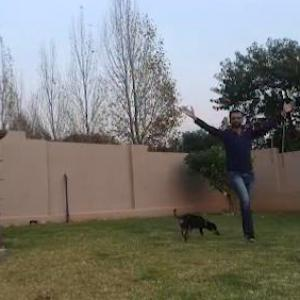takeoff: (172, 100, 292, 239)
